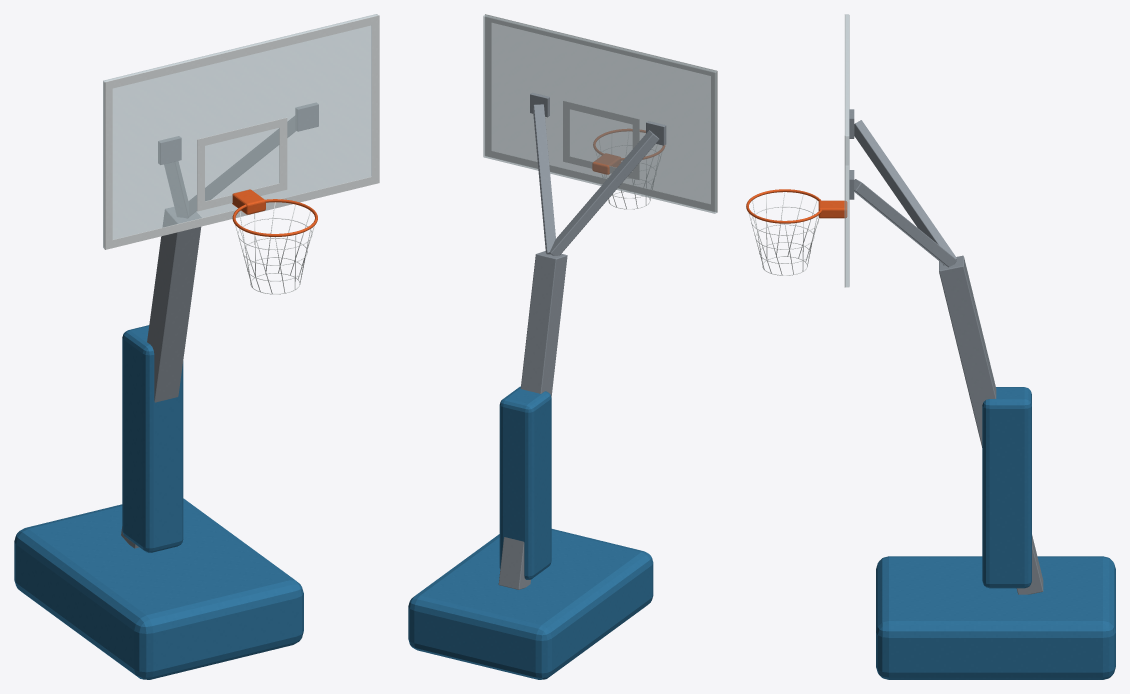
The model's file is hoop.glb.
The picture shows the model from 3 angles, left to right: view 1: azimuth 30°, elevation 25°; view 2: azimuth 150°, elevation 25°; view 3: azimuth 270°, elevation 25°; orthographic projection. The views are drawn at different scales.
Visible parts, largest first — view 1: Backboard, Ballasted mobile base, Lower upright safety pad, Backboard border, Cantilever upright, Backboard target, Backboard support.001, Backboard support, Basketball ring, Basketball ring bracket, Backboard rear mounting pad, Backboard rear mounting pad.001; view 2: Backboard, Ballasted mobile base, Lower upright safety pad, Cantilever upright, Backboard border, Backboard support, Backboard support.001, Backboard target; view 3: Ballasted mobile base, Lower upright safety pad, Cantilever upright, Backboard support, Backboard support.001, Backboard, Basketball ring.
Boxes of the visible parts, bbox=[...] form: Backboard: bbox=[103, 14, 378, 248]; Ballasted mobile base: bbox=[14, 498, 303, 679]; Lower upright safety pad: bbox=[122, 325, 183, 552]; Backboard border: bbox=[104, 15, 379, 249]; Cantilever upright: bbox=[121, 207, 201, 548]; Backboard target: bbox=[197, 117, 287, 211]; Backboard support.001: bbox=[187, 116, 295, 218]; Backboard support: bbox=[164, 161, 188, 217]; Basketball ring: bbox=[232, 199, 317, 236]; Basketball ring bracket: bbox=[232, 189, 265, 214]; Backboard rear mounting pad: bbox=[158, 136, 181, 164]; Backboard rear mounting pad.001: bbox=[295, 103, 318, 131]; Backboard: bbox=[483, 14, 716, 213]; Ballasted mobile base: bbox=[408, 529, 653, 679]; Lower upright safety pad: bbox=[499, 386, 551, 579]; Cantilever upright: bbox=[498, 251, 567, 589]; Backboard border: bbox=[485, 14, 717, 212]; Backboard support: bbox=[549, 130, 659, 255]; Backboard support.001: bbox=[533, 104, 555, 254]; Backboard target: bbox=[563, 101, 639, 179]; Ballasted mobile base: bbox=[876, 556, 1115, 679]; Lower upright safety pad: bbox=[982, 387, 1031, 588]; Cantilever upright: bbox=[939, 255, 1043, 594]; Backboard support: bbox=[854, 120, 956, 265]; Backboard support.001: bbox=[854, 179, 956, 267]; Backboard: bbox=[845, 14, 849, 287]; Basketball ring: bbox=[746, 189, 822, 223].
Bounding box in the file's own units: 1.8 × 3.95 × 2.31.
5 materials, 5 textured.
